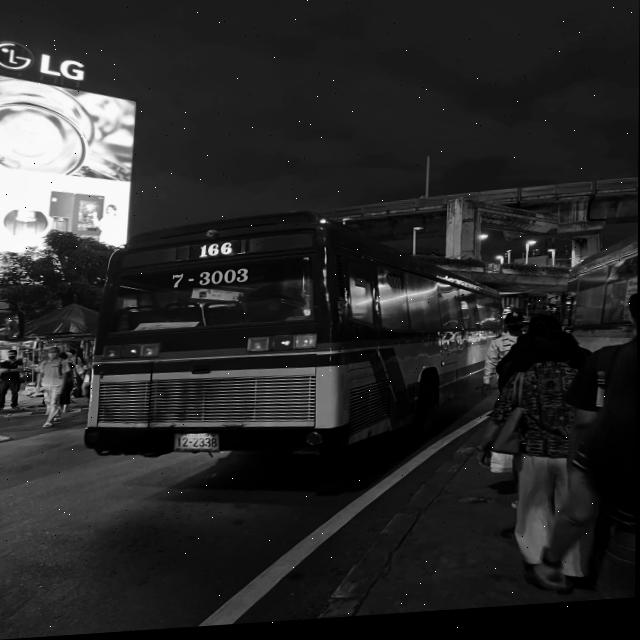BMTA-bus: (84, 200, 507, 474)
Bus-Line-Number: (196, 243, 236, 262)
